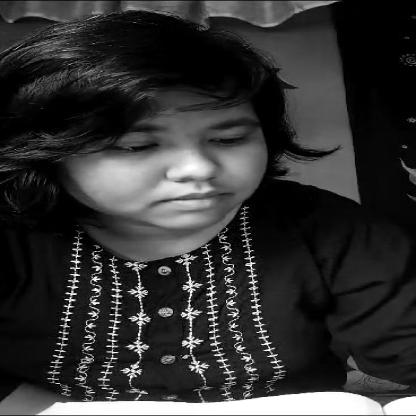Distracted: (62, 65, 273, 229)
